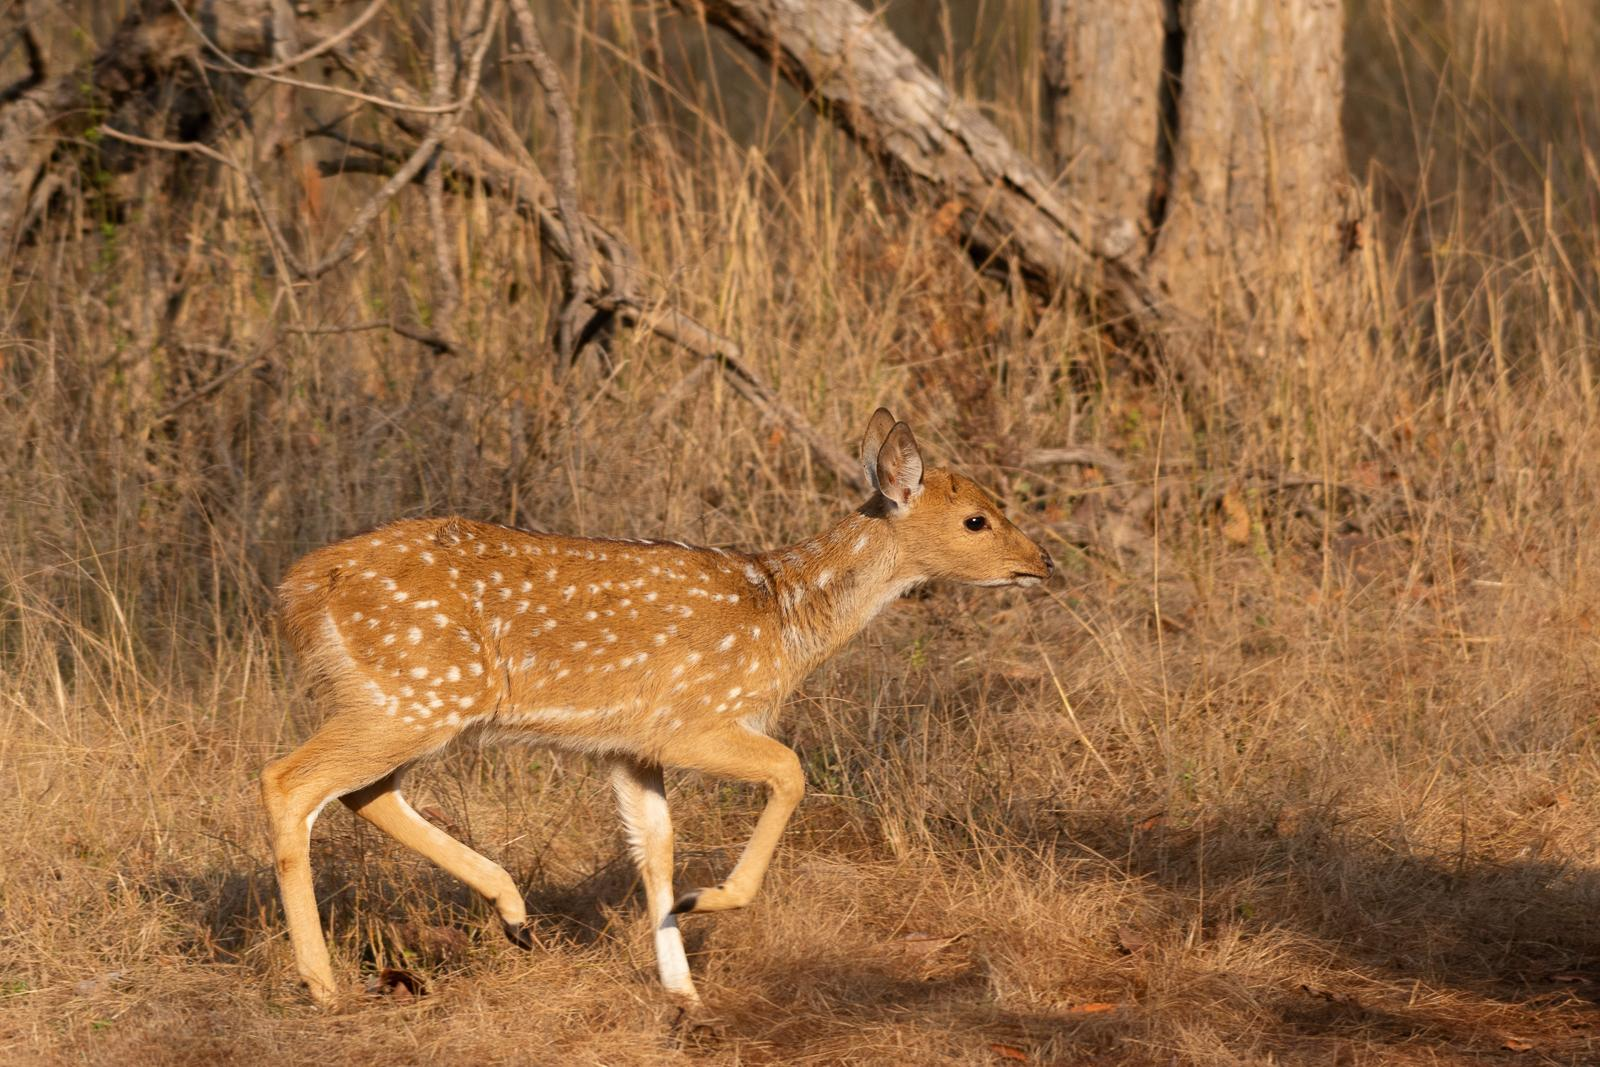Deer: (262, 408, 1050, 1003)
